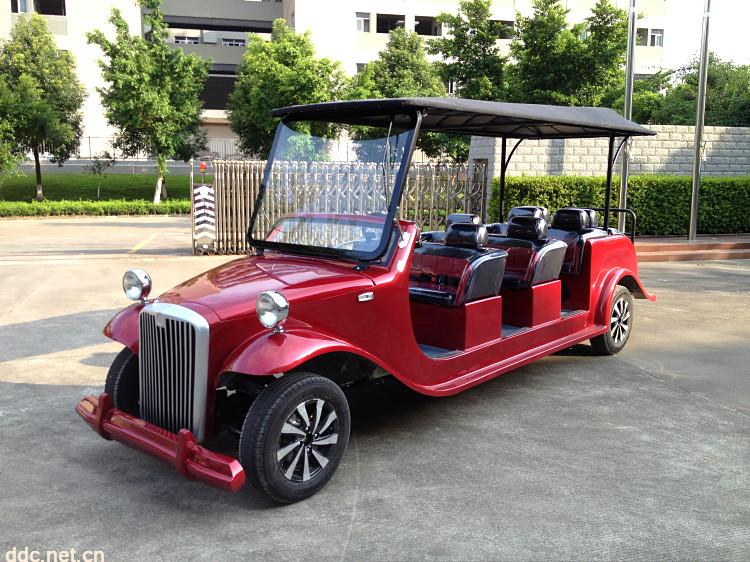MNV: (75, 97, 637, 505)
